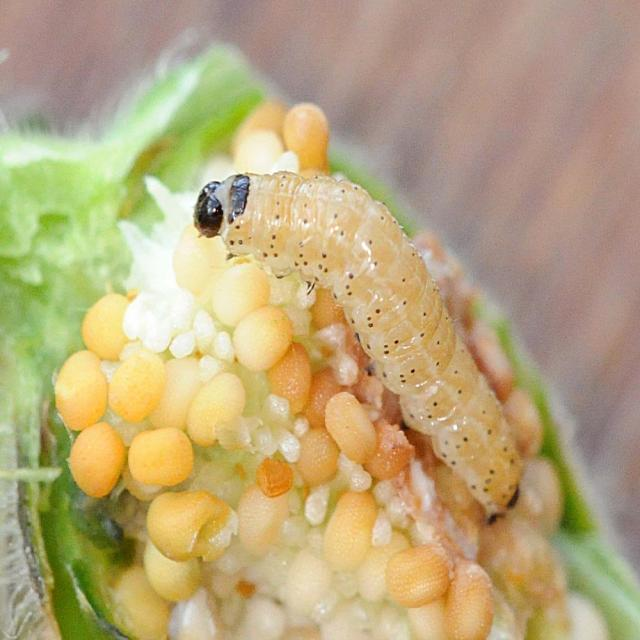cornborer-Larva-: (188, 153, 564, 541)
